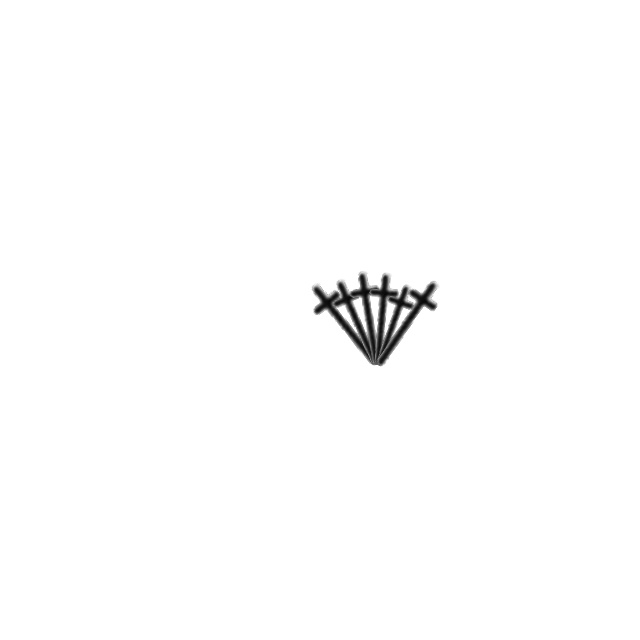enseble_chain: (291, 265, 402, 385), (352, 265, 463, 385), (316, 268, 403, 377), (353, 276, 433, 377), (336, 267, 405, 371), (349, 269, 417, 371)
